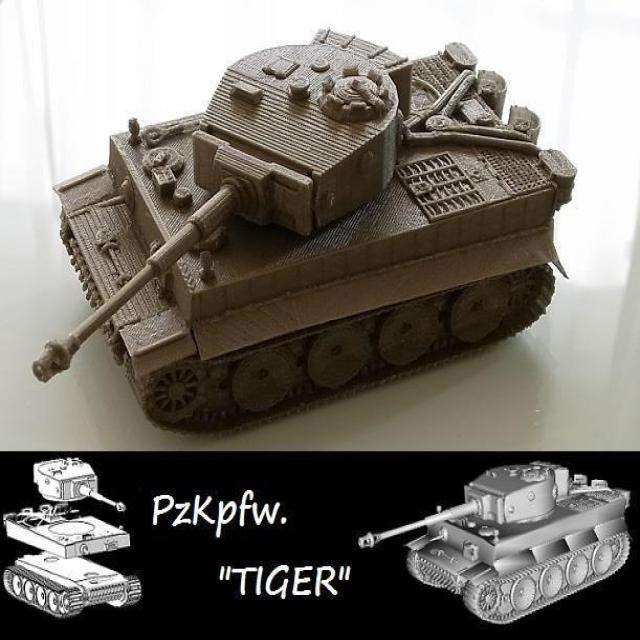Tanks: (45, 31, 616, 422), (361, 458, 633, 604)
